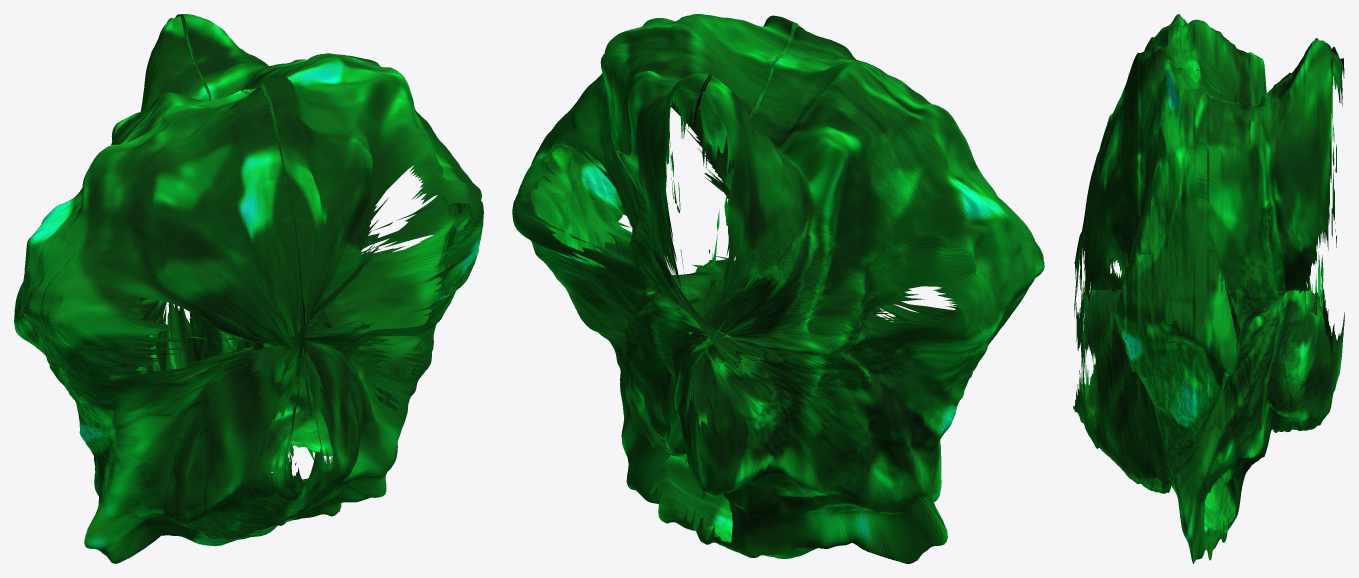
3 renders of one model, left to right at view 1: azimuth 30°, elevation 25°; view 2: azimuth 150°, elevation 25°; view 3: azimuth 270°, elevation 25°, orthographic. The views are drawn at different scales.
Visible parts, largest first — view 1: geometry_0; view 2: geometry_0; view 3: geometry_0.
Boxes of the visible parts, x1,y1,x2,y2 form: geometry_0: (14,14,483,563); geometry_0: (512,14,1044,563); geometry_0: (1073,14,1344,563).
Bounding box in the file's own units: 1.81 × 1.8 × 0.9247.
1 material, 1 textured.
